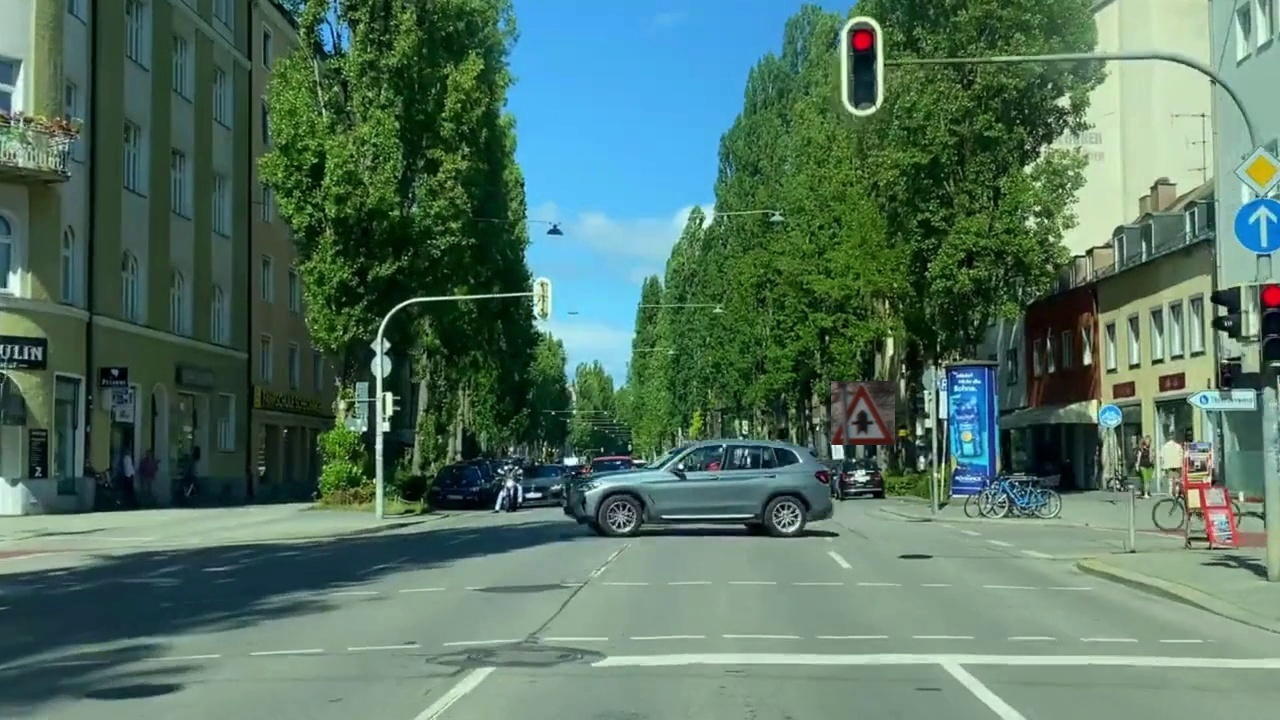Right-of-way: (831, 381, 895, 445)
